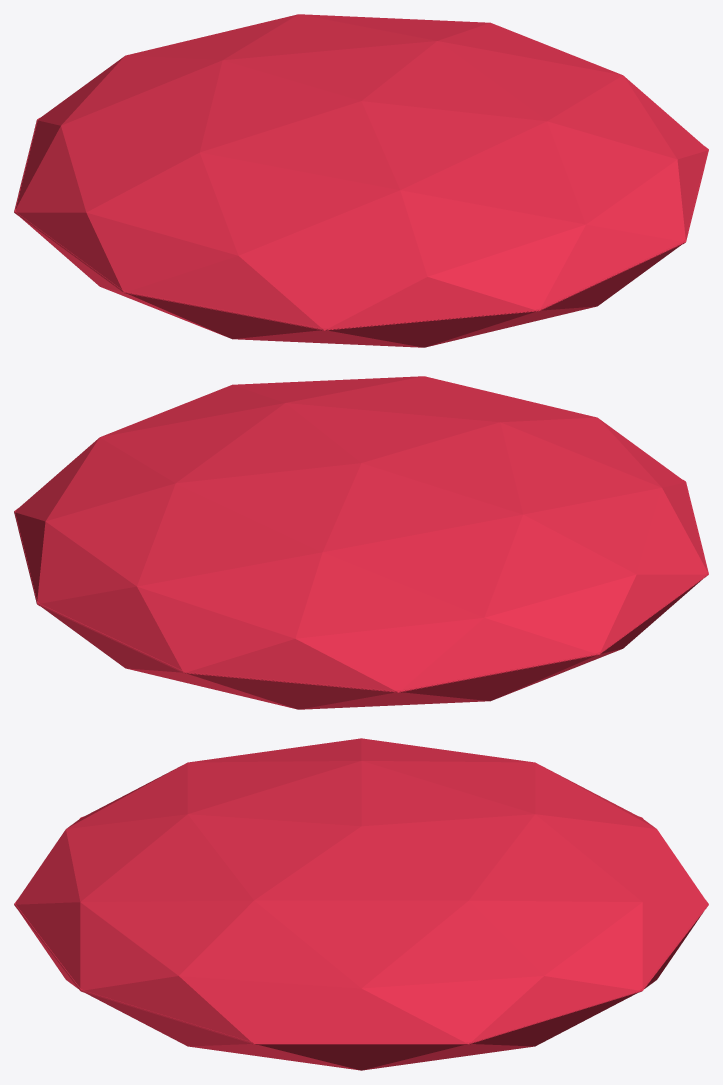
File: steakRauw.gltf
The picture shows the model from 3 angles, top to bottom: view 1: azimuth 30°, elevation 25°; view 2: azimuth 150°, elevation 25°; view 3: azimuth 270°, elevation 25°; orthographic projection. The views are drawn at different scales.
Parts seen in each view (by area): view 1: steakRauw; view 2: steakRauw; view 3: steakRauw.
Boxes of the visible parts, x1,y1,x2,y2 form: steakRauw: [14, 14, 708, 347]; steakRauw: [14, 376, 708, 709]; steakRauw: [14, 738, 708, 1070].
Bounding box in the file's own units: 1.24 × 0.323 × 1.3.
